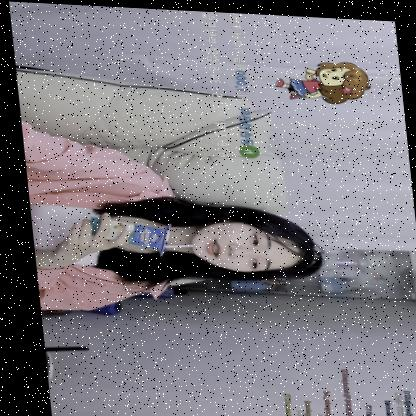donation: (200, 8, 378, 161)
streamer: (18, 121, 327, 319)
